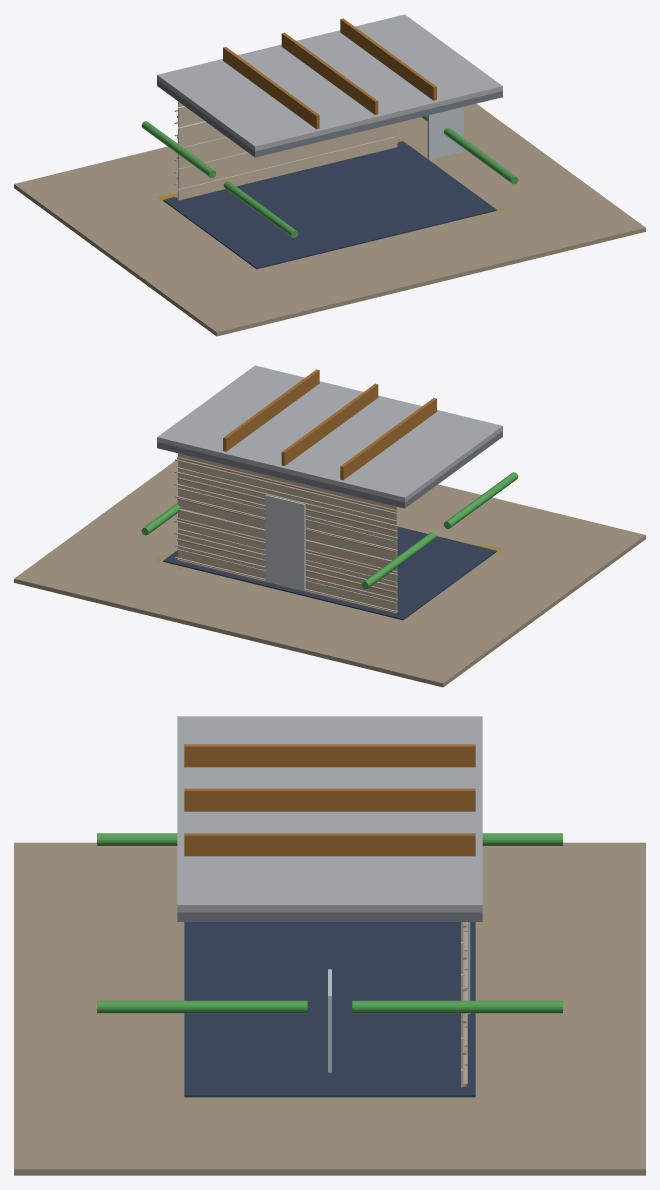
The model's file is stage_10_roof_covering.glb.
The picture shows the model from 3 angles, top to bottom: view 1: azimuth 30°, elevation 25°; view 2: azimuth 150°, elevation 25°; view 3: azimuth 270°, elevation 25°; orthographic projection. The views are drawn at different scales.
Visible parts, largest first — view 1: world; view 2: world; view 3: world.
Part boxes in pixels (x1,y1,x2,y2): world: [14, 14, 645, 336]; world: [14, 365, 645, 687]; world: [14, 716, 645, 1175].
Bounding box in the file's own units: 11 × 4.2 × 9.
